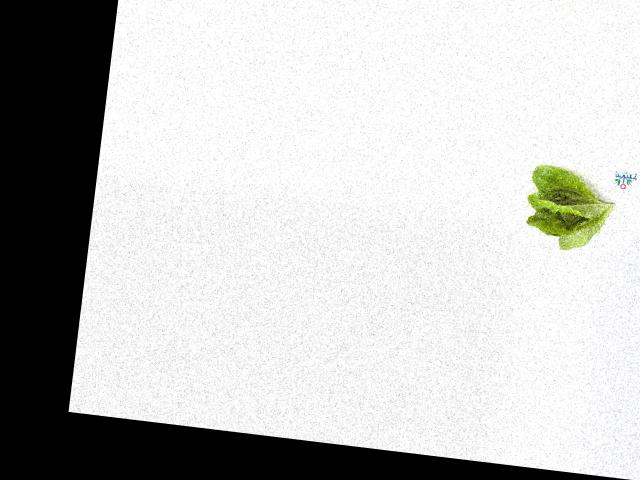lettuce: (519, 164, 619, 257)
